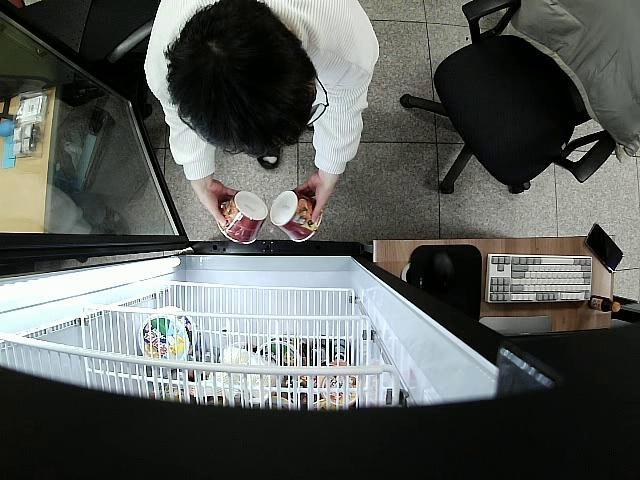05_nuguri_L: (270, 190, 323, 244), (218, 192, 268, 246)
